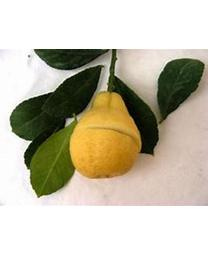lemon: (70, 93, 142, 180)
